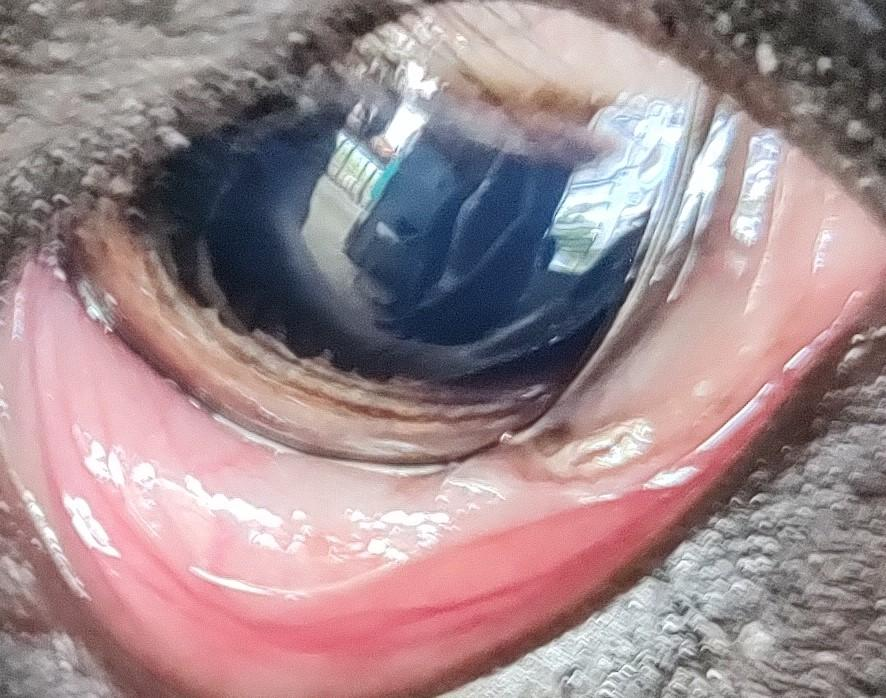eye_membrane: (0, 144, 884, 696)
